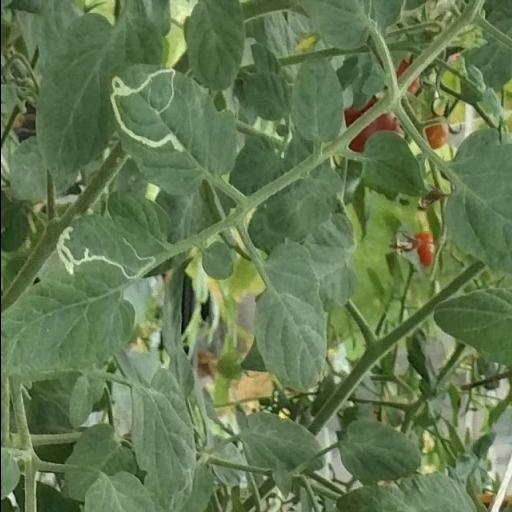disease_tomato: (0, 212, 170, 378), (105, 63, 242, 197)
